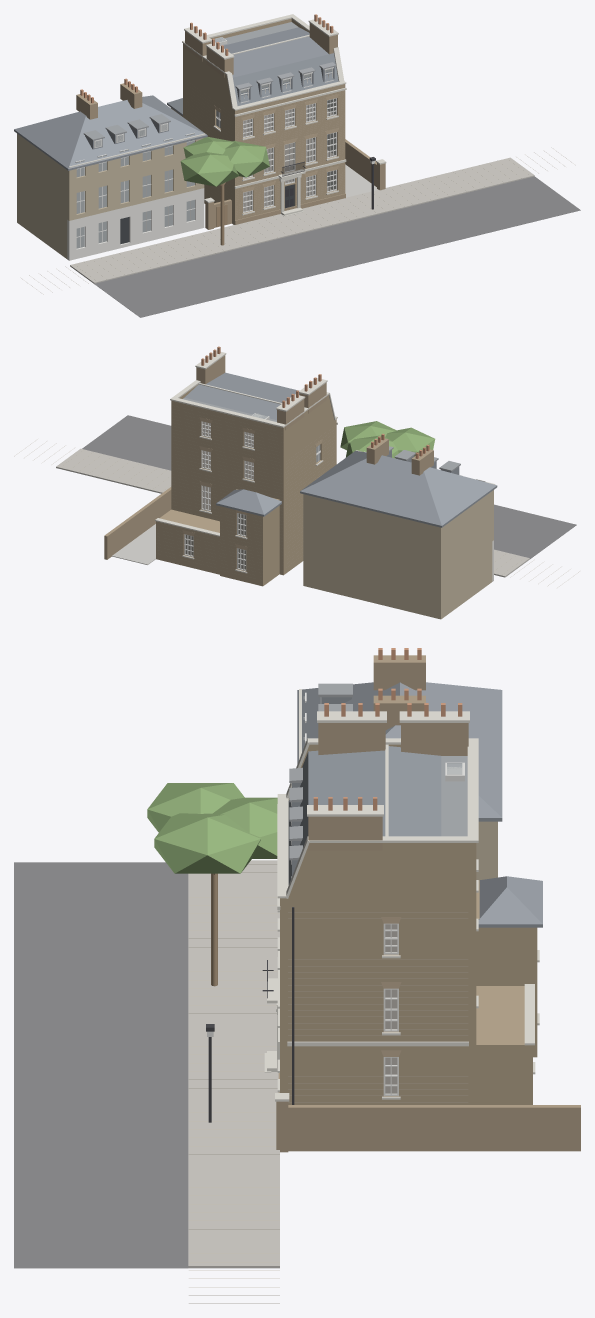
Rendered from clay-georgian-terrace-house-clay-v002.glb.
3 views of the same model, one above another, from view 1: azimuth 30°, elevation 25°; view 2: azimuth 150°, elevation 25°; view 3: azimuth 270°, elevation 25° (orthographic). The views are drawn at different scales.
Parts seen in each view (by area): view 1: CLAY_ASPHALT, CLAY_ROOF, CLAY_WALL, CLAY_PAVING, CLAY_NEIGHBOUR, CLAY_TRIM, CLAY_STUCCO, CLAY_GLASS, CLAY_STONE, CLAY_BRICK, CLAY_PLANTING, CLAY_LEAD (+8 smaller); view 2: CLAY_WALL, CLAY_NEIGHBOUR, CLAY_ROOF, CLAY_ASPHALT, CLAY_BRICK, CLAY_PAVING, CLAY_STONE, CLAY_PLANTING, CLAY_TRIM, CLAY_GLASS, CLAY_CONCRETE, CLAY_POT (+4 smaller); view 3: CLAY_ASPHALT, CLAY_WALL, CLAY_PAVING, CLAY_BRICK, CLAY_ROOF, CLAY_STONE, CLAY_PLANTING, CLAY_JOINT, CLAY_LEAD, CLAY_POT, CLAY_GLASS, CLAY_TRIM (+3 smaller).
Part boxes in pixels (left/top/right/bottom): CLAY_ASPHALT: left=94, top=176, right=580, bottom=317; CLAY_ROOF: left=14, top=27, right=338, bottom=170; CLAY_WALL: left=171, top=18, right=345, bottom=224; CLAY_PAVING: left=70, top=157, right=534, bottom=283; CLAY_NEIGHBOUR: left=17, top=133, right=204, bottom=258; CLAY_TRIM: left=75, top=67, right=336, bottom=248; CLAY_STUCCO: left=67, top=188, right=204, bottom=260; CLAY_GLASS: left=76, top=37, right=335, bottom=248; CLAY_STONE: left=69, top=14, right=386, bottom=216; CLAY_BRICK: left=76, top=23, right=385, bottom=229; CLAY_PLANTING: left=180, top=137, right=269, bottom=186; CLAY_LEAD: left=83, top=22, right=336, bottom=140; CLAY_WALL: left=156, top=384, right=336, bottom=586; CLAY_NEIGHBOUR: left=303, top=490, right=493, bottom=619; CLAY_ROOF: left=185, top=372, right=497, bottom=527; CLAY_ASPHALT: left=82, top=415, right=576, bottom=558; CLAY_BRICK: left=104, top=355, right=433, bottom=559; CLAY_PAVING: left=56, top=448, right=529, bottom=577; CLAY_STONE: left=155, top=350, right=495, bottom=573; CLAY_PLANTING: left=340, top=421, right=435, bottom=458; CLAY_TRIM: left=184, top=421, right=485, bottom=570; CLAY_GLASS: left=185, top=413, right=320, bottom=569; CLAY_CONCRETE: left=112, top=524, right=155, bottom=564; CLAY_POT: left=201, top=346, right=429, bottom=458; CLAY_ASPHALT: left=14, top=862, right=188, bottom=1268; CLAY_WALL: left=280, top=744, right=537, bottom=1104; CLAY_PAVING: left=188, top=860, right=279, bottom=1268; CLAY_BRICK: left=276, top=655, right=580, bottom=1152; CLAY_ROOF: left=288, top=682, right=542, bottom=927; CLAY_STONE: left=264, top=689, right=539, bottom=1101; CLAY_PLANTING: left=147, top=783, right=277, bottom=873; CLAY_JOINT: left=189, top=864, right=467, bottom=1303; CLAY_LEAD: left=289, top=683, right=467, bottom=860; CLAY_POT: left=313, top=648, right=462, bottom=810; CLAY_GLASS: left=320, top=698, right=462, bottom=1093; CLAY_TRIM: left=291, top=692, right=398, bottom=1095.
Size of the model in its own units: 53.12 by 15.92 by 26.
